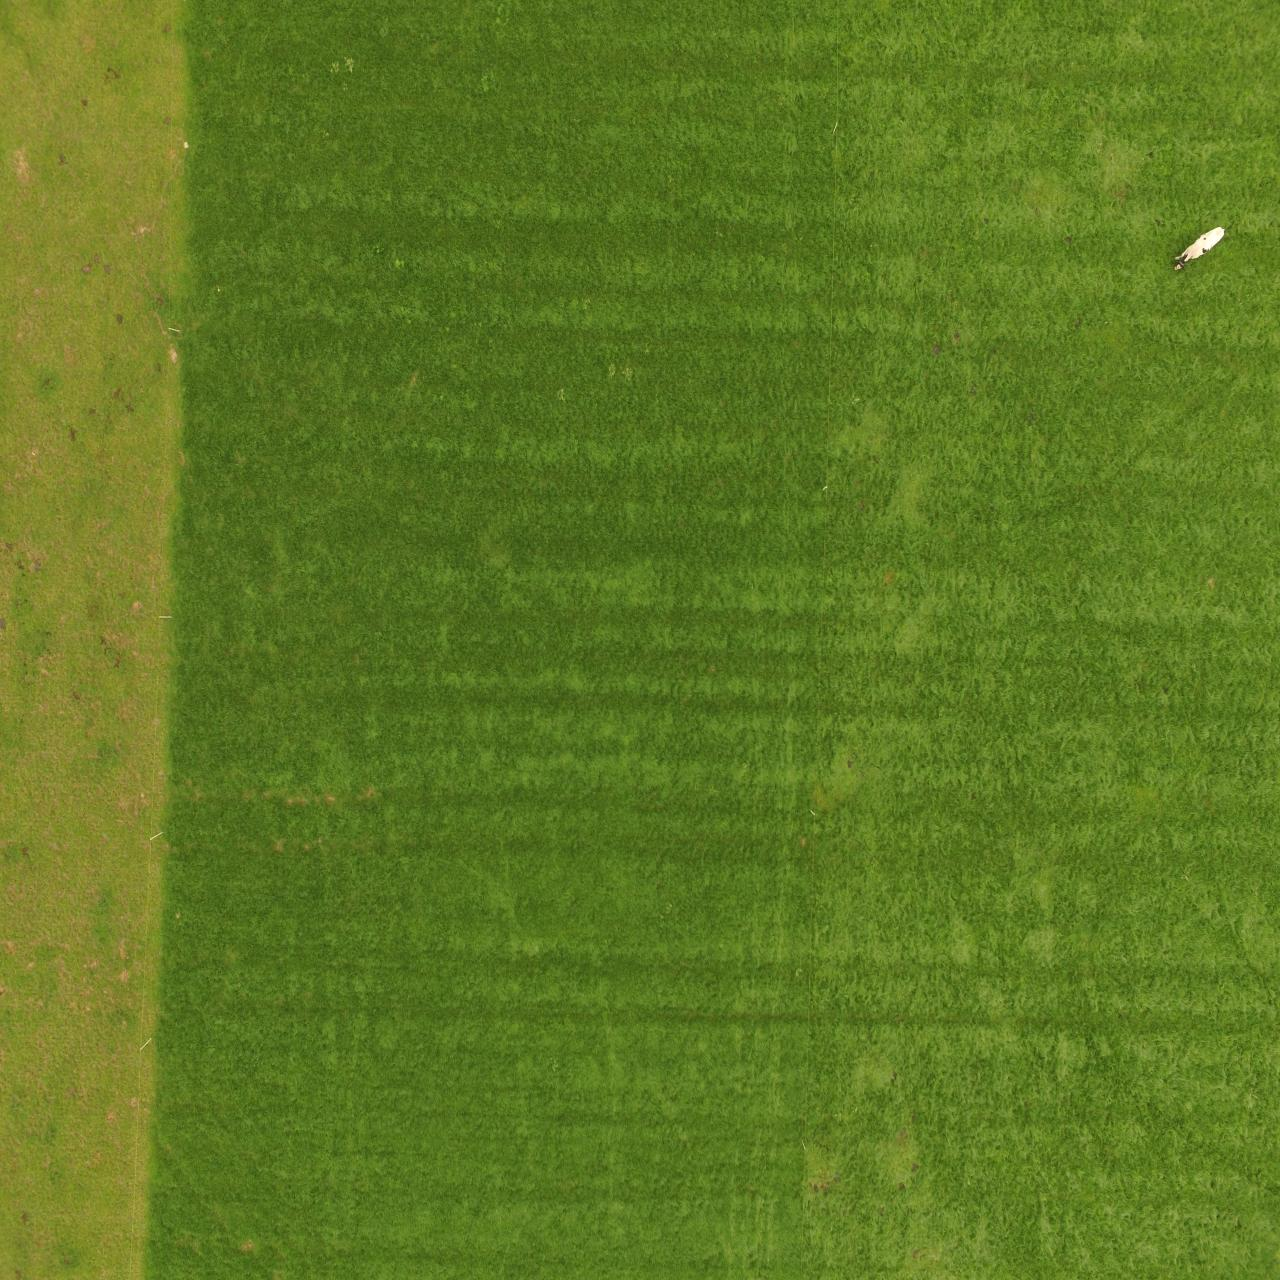cow: (1163, 223, 1230, 272)
